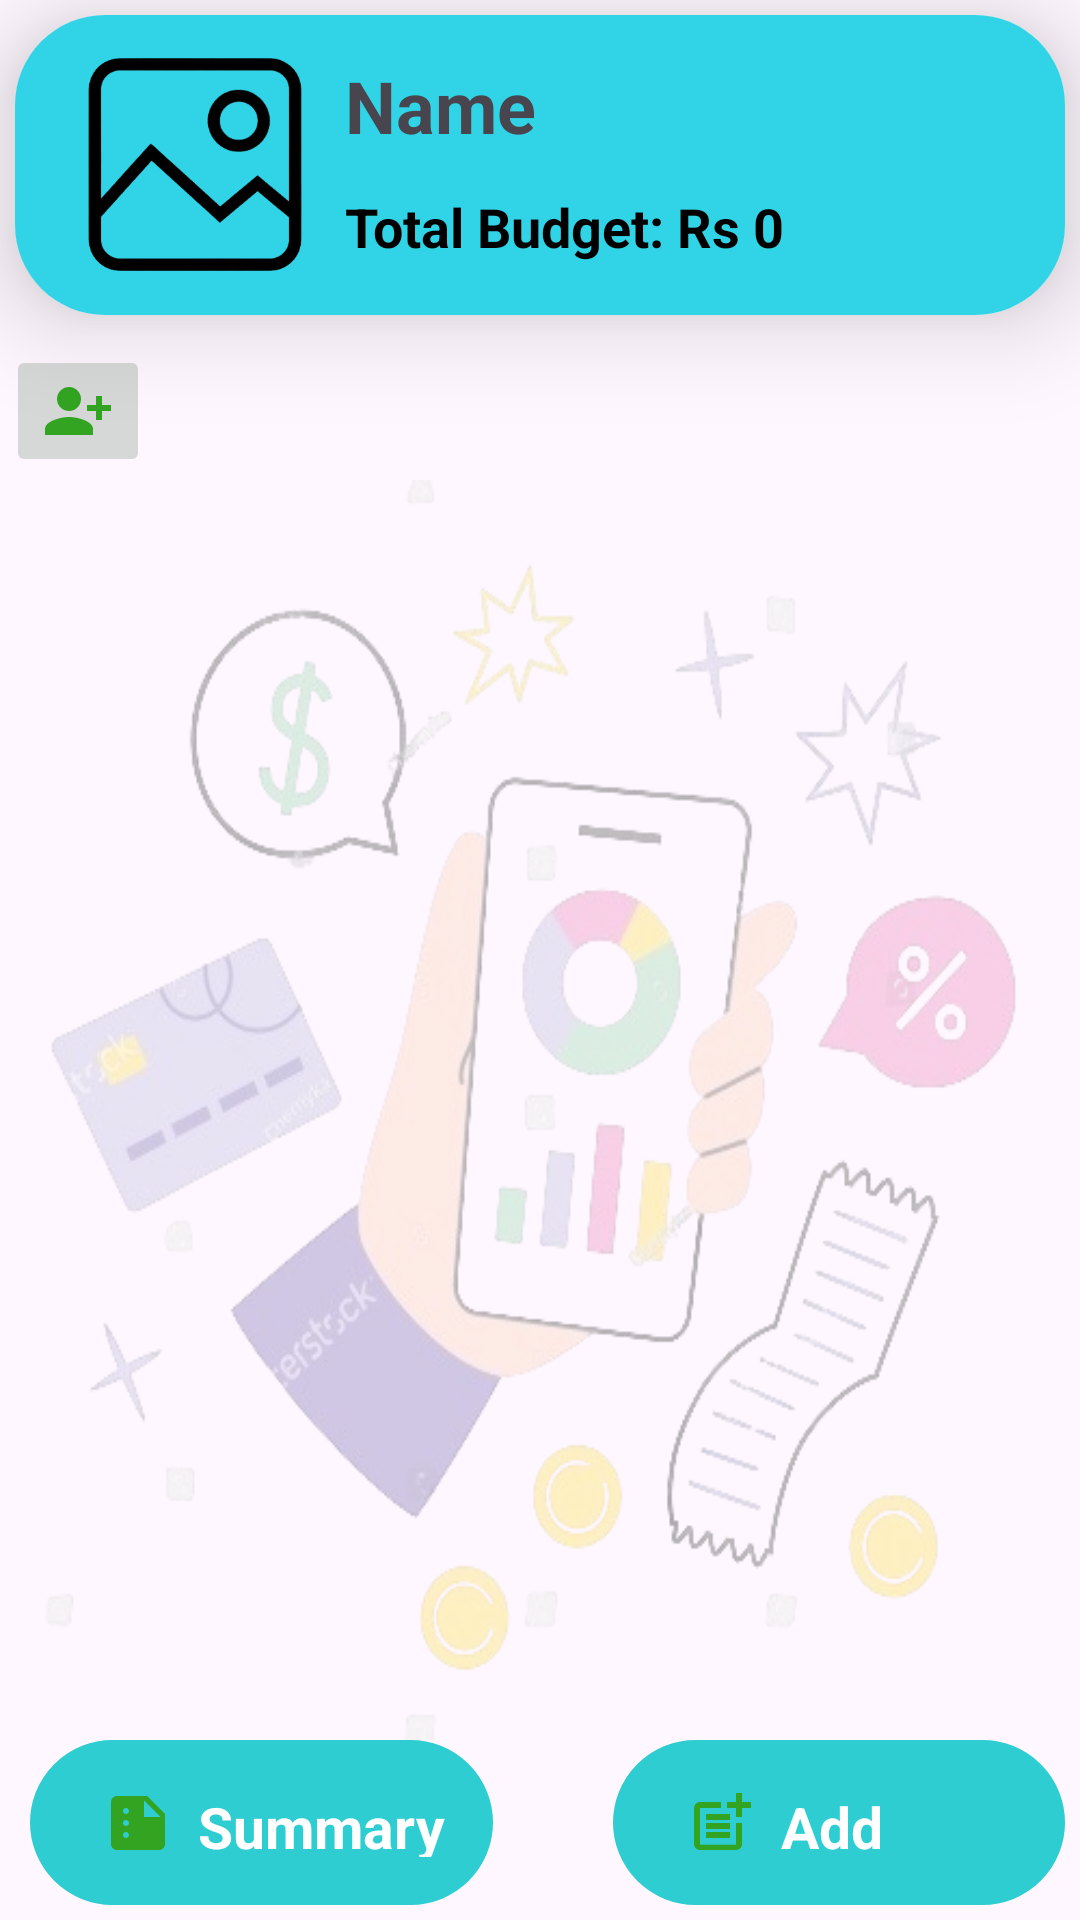

Icon bounding boxes for this 1080px x 1920px phone screenshot, format (x1, y1, x2, y2):
person add: (18, 363, 138, 459)
post add: (694, 1793, 751, 1850)
summarize: (111, 1796, 165, 1850)
